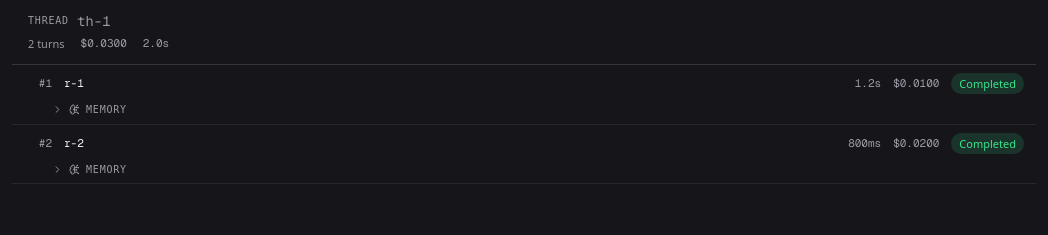
ThreadDetail › a healthy record shows neither row
Click the button "memory" below "1.2s" at [106, 110], box [12, 102, 1036, 124]
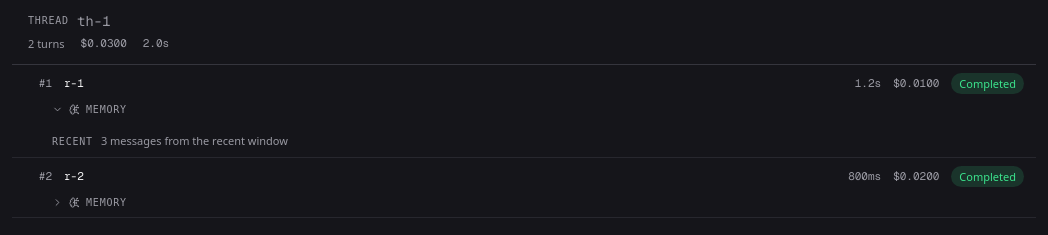
Now the text "3 messages from the recent window" is shown, box [101, 132, 288, 149]
